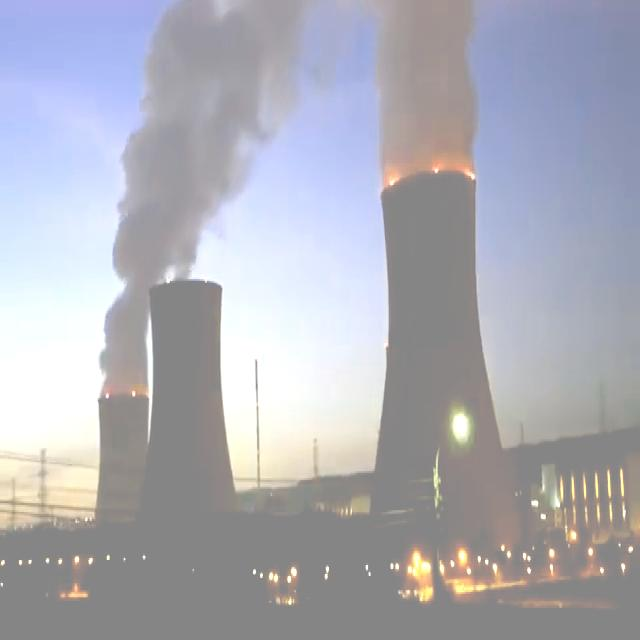smoke: (100, 0, 308, 396), (378, 0, 478, 187)
